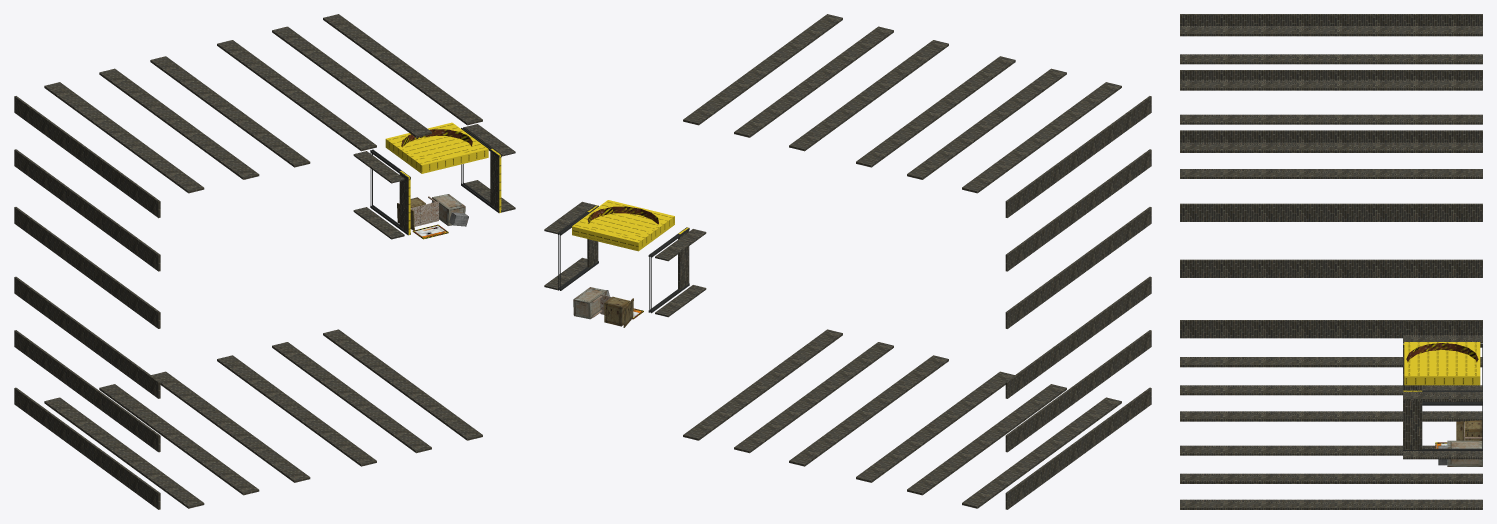
The model's file is basement_props.vmf.obj.
3 views of the same model, side by side, from view 1: azimuth 30°, elevation 25°; view 2: azimuth 150°, elevation 25°; view 3: azimuth 270°, elevation 25° (orthographic). The views are drawn at different scales.
Visible parts, largest first — view 1: 10448, 10444, 10445, 10446, 10447, 10449, 10426, 10404, 10427, 10411, 10413, 10429 (+13 smaller); view 2: 10445, 10446, 10444, 10447, 10448, 10449, 10426, 10413, 10427, 10429, 10430, 10404 (+8 smaller); view 3: 10444, 10446, 10445, 10447, 10449, 10407, 10408, 10411, 10412, 10413, 10430, 10431 (+12 smaller).
Part boxes in pixels (bbox=[...]): 10448: bbox=[14, 149, 160, 271]; 10444: bbox=[14, 330, 160, 452]; 10445: bbox=[14, 387, 160, 509]; 10446: bbox=[14, 276, 160, 398]; 10447: bbox=[14, 207, 160, 328]; 10449: bbox=[14, 96, 160, 218]; 10426: bbox=[99, 384, 259, 495]; 10404: bbox=[323, 14, 482, 125]; 10427: bbox=[44, 397, 204, 508]; 10411: bbox=[150, 56, 310, 167]; 10413: bbox=[44, 82, 204, 193]; 10429: bbox=[217, 355, 376, 466]; 10445: bbox=[1005, 387, 1151, 509]; 10446: bbox=[1005, 276, 1151, 398]; 10444: bbox=[1005, 330, 1151, 452]; 10447: bbox=[1005, 207, 1151, 328]; 10448: bbox=[1005, 149, 1151, 271]; 10449: bbox=[1005, 96, 1151, 217]; 10426: bbox=[907, 384, 1066, 495]; 10413: bbox=[962, 82, 1121, 193]; 10427: bbox=[962, 397, 1121, 508]; 10429: bbox=[789, 355, 948, 466]; 10430: bbox=[734, 342, 893, 453]; 10404: bbox=[683, 14, 842, 125]; 10444: bbox=[1180, 259, 1482, 277]; 10446: bbox=[1180, 203, 1482, 221]; 10445: bbox=[1180, 320, 1482, 338]; 10447: bbox=[1180, 130, 1482, 142]; 10449: bbox=[1180, 14, 1482, 25]; 10407: bbox=[1180, 142, 1482, 152]; 10408: bbox=[1180, 114, 1482, 124]; 10411: bbox=[1180, 80, 1482, 90]; 10412: bbox=[1180, 54, 1482, 64]; 10413: bbox=[1180, 26, 1482, 36]; 10430: bbox=[1180, 473, 1482, 483]; 10431: bbox=[1180, 499, 1482, 509].
Bounding box in the file's own units: 944 × 618 × 509.
Materials: 11 (11 with a texture image).
